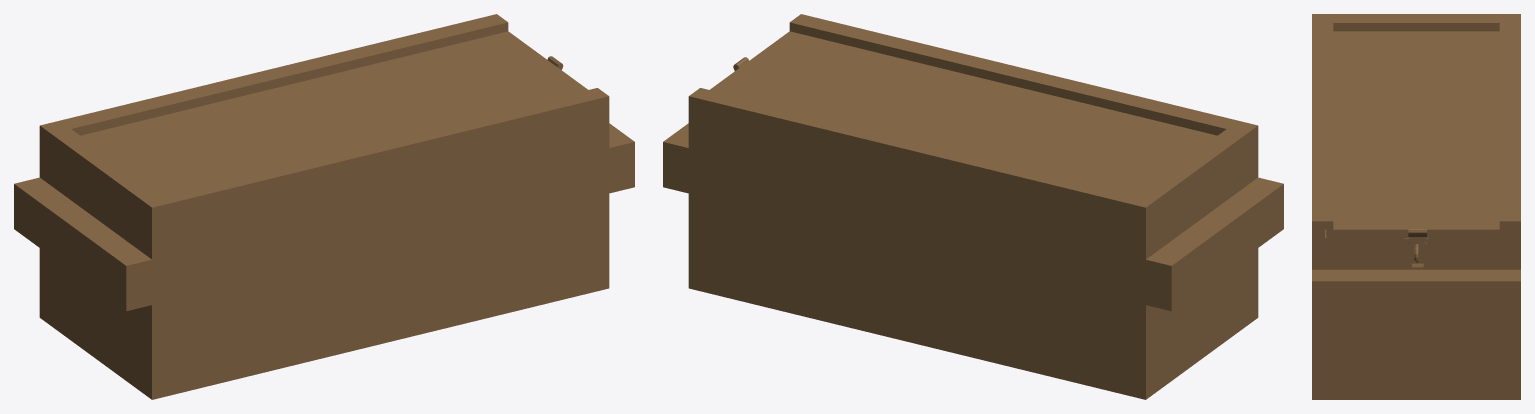
Rendered from wip_watersandbox.glb.
3 renders of one model, left to right at view 1: azimuth 30°, elevation 25°; view 2: azimuth 150°, elevation 25°; view 3: azimuth 270°, elevation 25°, orthographic. The views are drawn at different scales.
Visible parts, largest first — view 1: product-ee71d14c-15ff-49de-86f2-3c43770b6f39-body, product-4ae3123b-0de4-41de-9786-996a51a243fa-body; view 2: product-ee71d14c-15ff-49de-86f2-3c43770b6f39-body, product-4ae3123b-0de4-41de-9786-996a51a243fa-body; view 3: product-ee71d14c-15ff-49de-86f2-3c43770b6f39-body, product-4ae3123b-0de4-41de-9786-996a51a243fa-body, product-a5703c96-f9cb-4f14-aef2-bc0a42164f9d-body.
Boxes of the visible parts, x1,y1,x2,y2 form: product-ee71d14c-15ff-49de-86f2-3c43770b6f39-body: [14, 14, 634, 399]; product-4ae3123b-0de4-41de-9786-996a51a243fa-body: [80, 31, 587, 194]; product-ee71d14c-15ff-49de-86f2-3c43770b6f39-body: [663, 14, 1283, 399]; product-4ae3123b-0de4-41de-9786-996a51a243fa-body: [710, 31, 1217, 194]; product-ee71d14c-15ff-49de-86f2-3c43770b6f39-body: [1312, 14, 1520, 399]; product-4ae3123b-0de4-41de-9786-996a51a243fa-body: [1326, 31, 1509, 237]; product-a5703c96-f9cb-4f14-aef2-bc0a42164f9d-body: [1408, 228, 1426, 267].
Bounding box in the file's own units: 0.2553 × 0.0922 × 0.0976.
